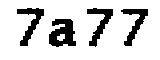7: (13, 4, 46, 50), (84, 4, 116, 50), (119, 6, 151, 52)
a: (46, 16, 79, 52)
